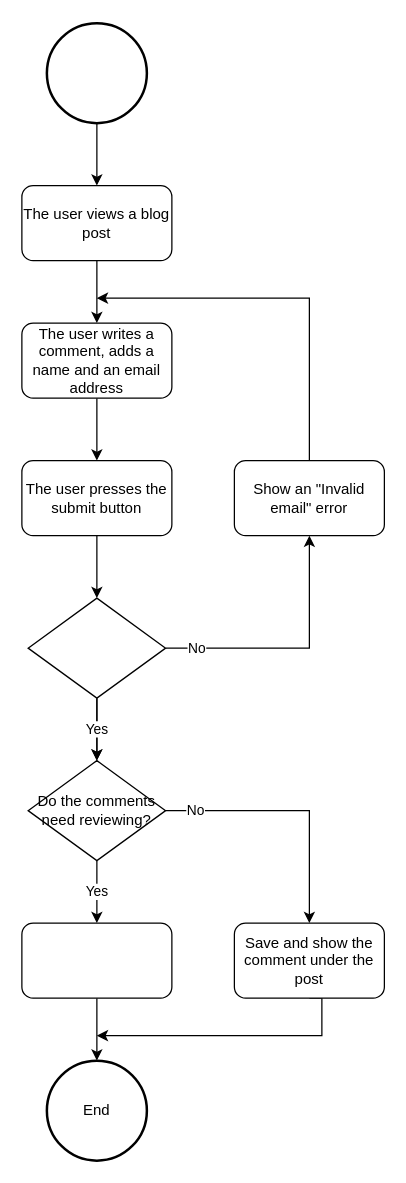
The diagram is 406 pixels wide and 1183 high, and some of its shapes have lost their labels. The box of each missing label's shape, as (x1, y1, x2, y2) in pixels:
Is the entered email valid?: (27, 597, 166, 698)
Save the comment with an "to be reviewed" flag: (21, 922, 172, 998)
Start: (45, 21, 148, 124)
